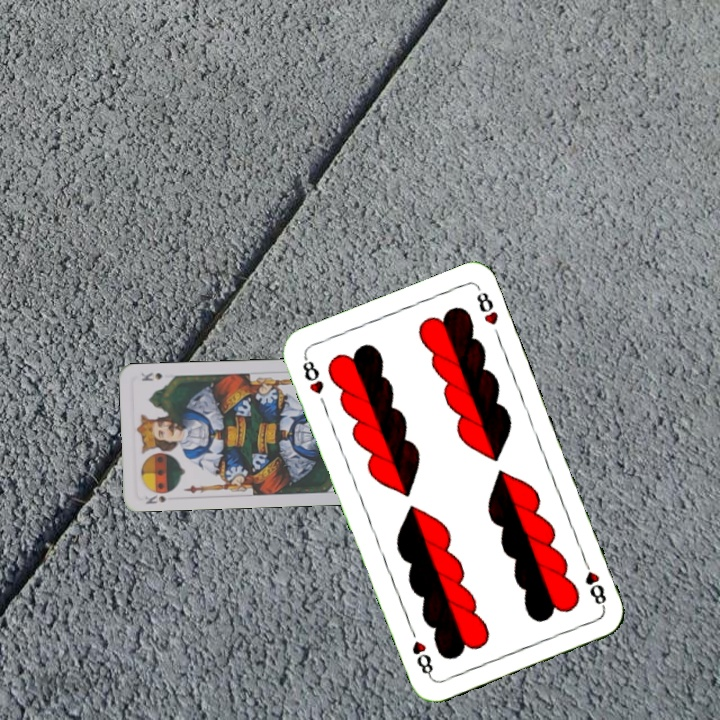H8: (579, 554, 609, 611), (298, 352, 327, 397)
SK: (141, 491, 168, 507)
